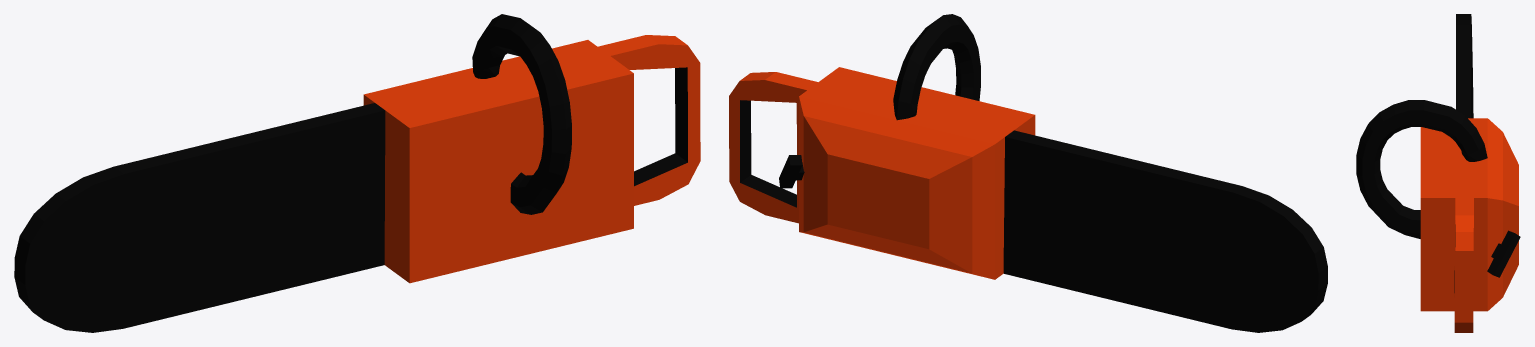
The model's file is Chainsaw.fbx.
The picture shows the model from 3 angles, left to right: view 1: azimuth 30°, elevation 25°; view 2: azimuth 150°, elevation 25°; view 3: azimuth 270°, elevation 25°; orthographic projection. The views are drawn at different scales.
Visible parts, largest first — view 1: Blade, Chainsaw, 2ndHandle, OuterHandle, InnerHandle; view 2: Blade, Chainsaw, 2ndHandle, OuterHandle, InnerHandle, PullCord; view 3: Chainsaw, 2ndHandle, OuterHandle, Blade, PullCord.
Part boxes in pixels (left/top/right/bottom): Blade: left=14, top=103, right=385, bottom=332; Chainsaw: left=363, top=40, right=633, bottom=283; 2ndHandle: left=472, top=14, right=571, bottom=214; OuterHandle: left=598, top=35, right=700, bottom=205; InnerHandle: left=634, top=67, right=687, bottom=186; Blade: left=1003, top=130, right=1327, bottom=332; Chainsaw: left=799, top=67, right=1035, bottom=279; 2ndHandle: left=893, top=14, right=980, bottom=120; OuterHandle: left=729, top=72, right=817, bottom=223; InnerHandle: left=740, top=100, right=796, bottom=207; PullCord: left=779, top=155, right=804, bottom=188; Chainsaw: left=1420, top=118, right=1518, bottom=311; 2ndHandle: left=1356, top=100, right=1487, bottom=238; OuterHandle: left=1454, top=198, right=1473, bottom=332; Blade: left=1456, top=14, right=1473, bottom=118; PullCord: left=1487, top=230, right=1520, bottom=277.
Size of the model in its own units: 1284 by 429 by 372.
